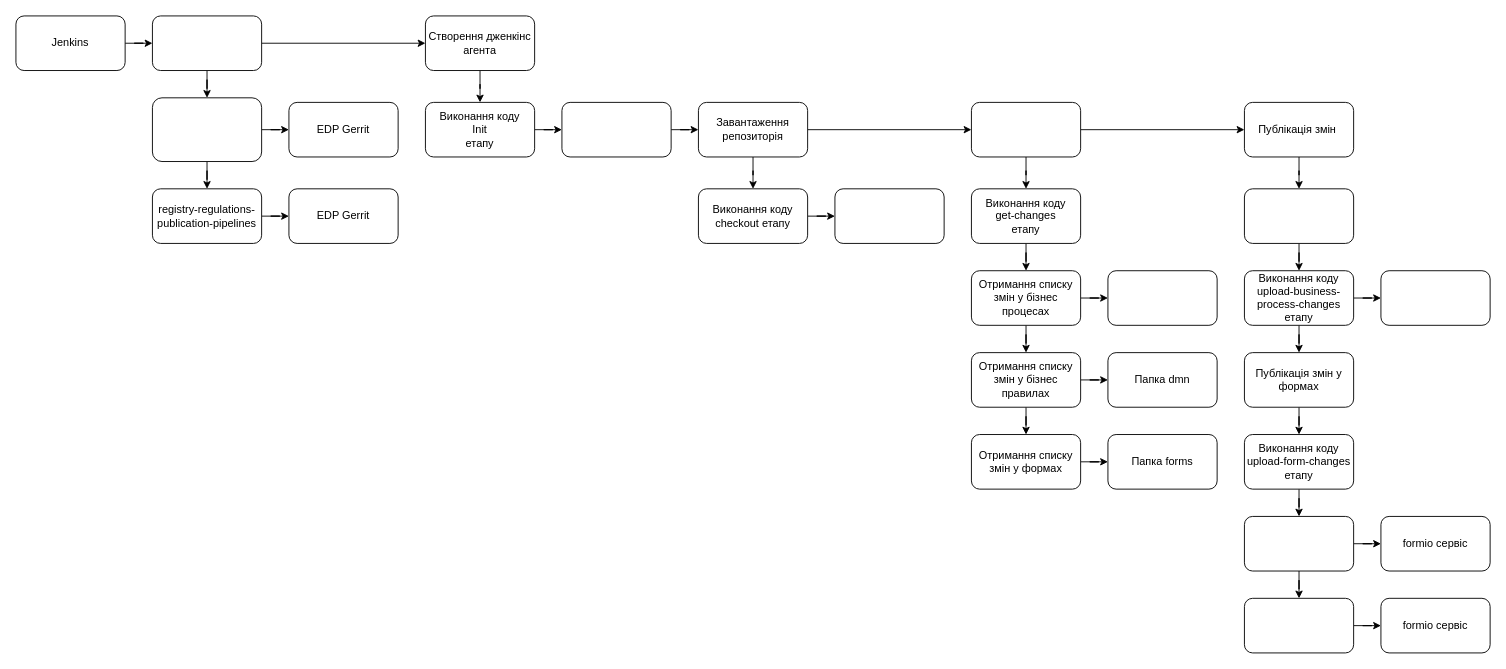
Image size: 1506x669. Some labels were removed from this diagram. Each missing label, with the centre of its shape:
"camunda сервіс" belongs at point (1435, 297).
"Gerrit реєстра" belongs at point (889, 215).
"registory-regulations-publication-ci-stages" belongs at point (207, 129).
"Дженкінс агент" belongs at point (616, 129).
"Завантажити бібліотеки" belongs at point (207, 43).
"Оновлення/Створення форми" belongs at point (1299, 625).
"Папка bpmn" belongs at point (1162, 297).
"Перевірка змін у регламенті реєстру" belongs at point (1026, 129).
"Перевірка існування форми" belongs at point (1299, 543).
"Публікація змін у бізнес процесах та бізнес правилах" belongs at point (1299, 215).
